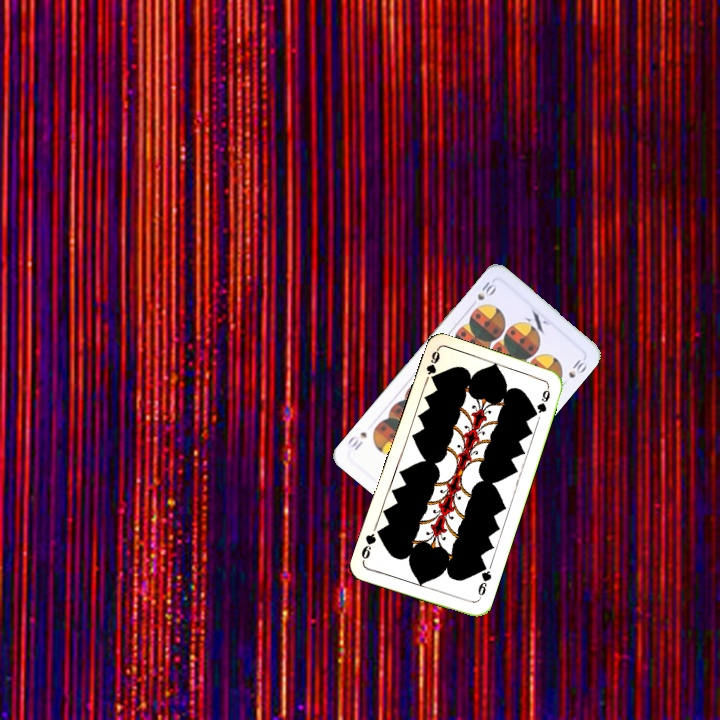G9: (474, 561, 494, 602), (422, 347, 442, 382)
S10: (473, 276, 499, 303)
